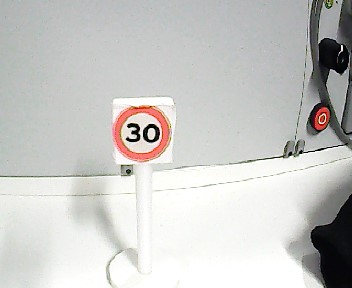30-bord: (112, 105, 172, 163)
